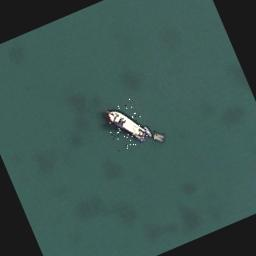boat: (102, 96, 150, 152), (151, 127, 168, 145)
